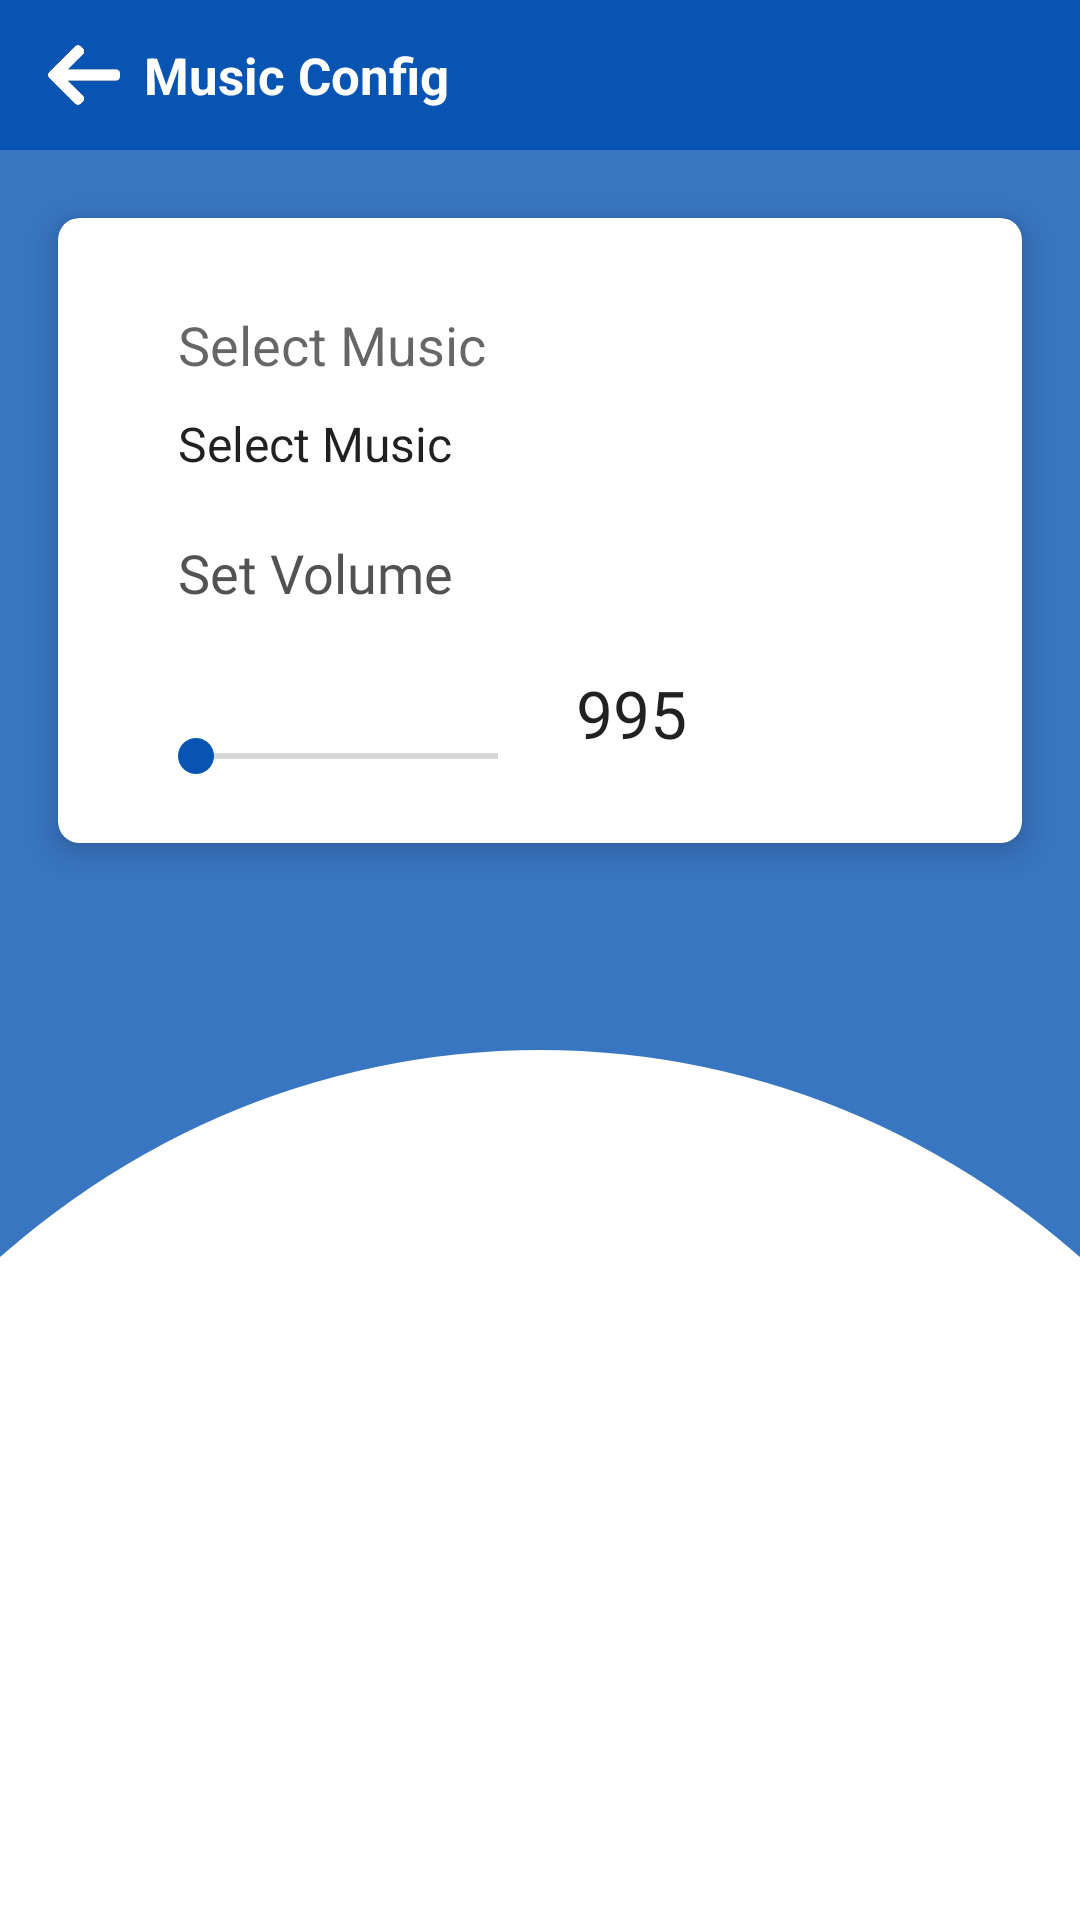

Where to tap for icons on this 1080px x 1920px app screen, as point (x, y):
arrow back: point (84, 75)
